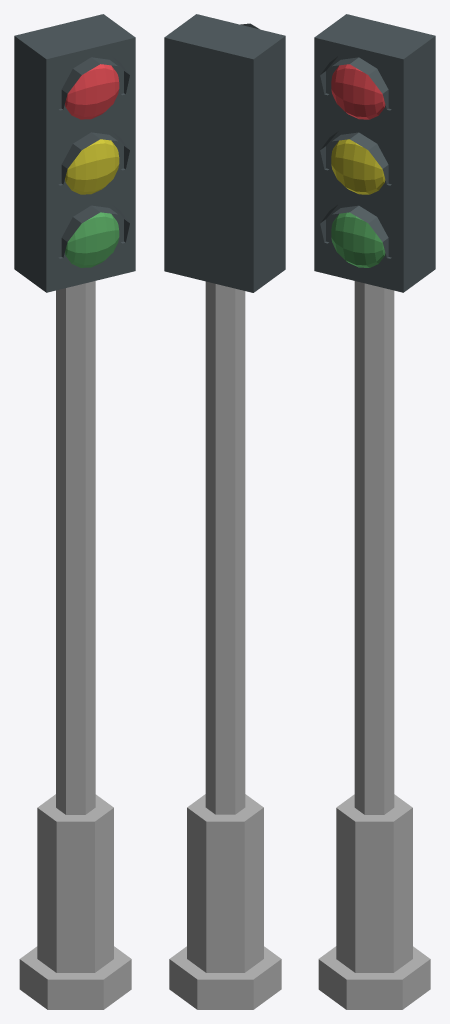
File: props-traffic-signal-small.glb
3 renders of one model, left to right at view 1: azimuth 30°, elevation 25°; view 2: azimuth 150°, elevation 25°; view 3: azimuth 330°, elevation 25°, orthographic.
Parts seen in each view (by area): view 1: model; view 2: model; view 3: model.
Part boxes in pixels (bbox=[...]): model: bbox=[14, 14, 135, 1009]; model: bbox=[164, 14, 285, 1009]; model: bbox=[314, 14, 435, 1009].
Bounding box in the file's own units: 0.552 × 5.63 × 0.6.
1 material, 1 textured.
